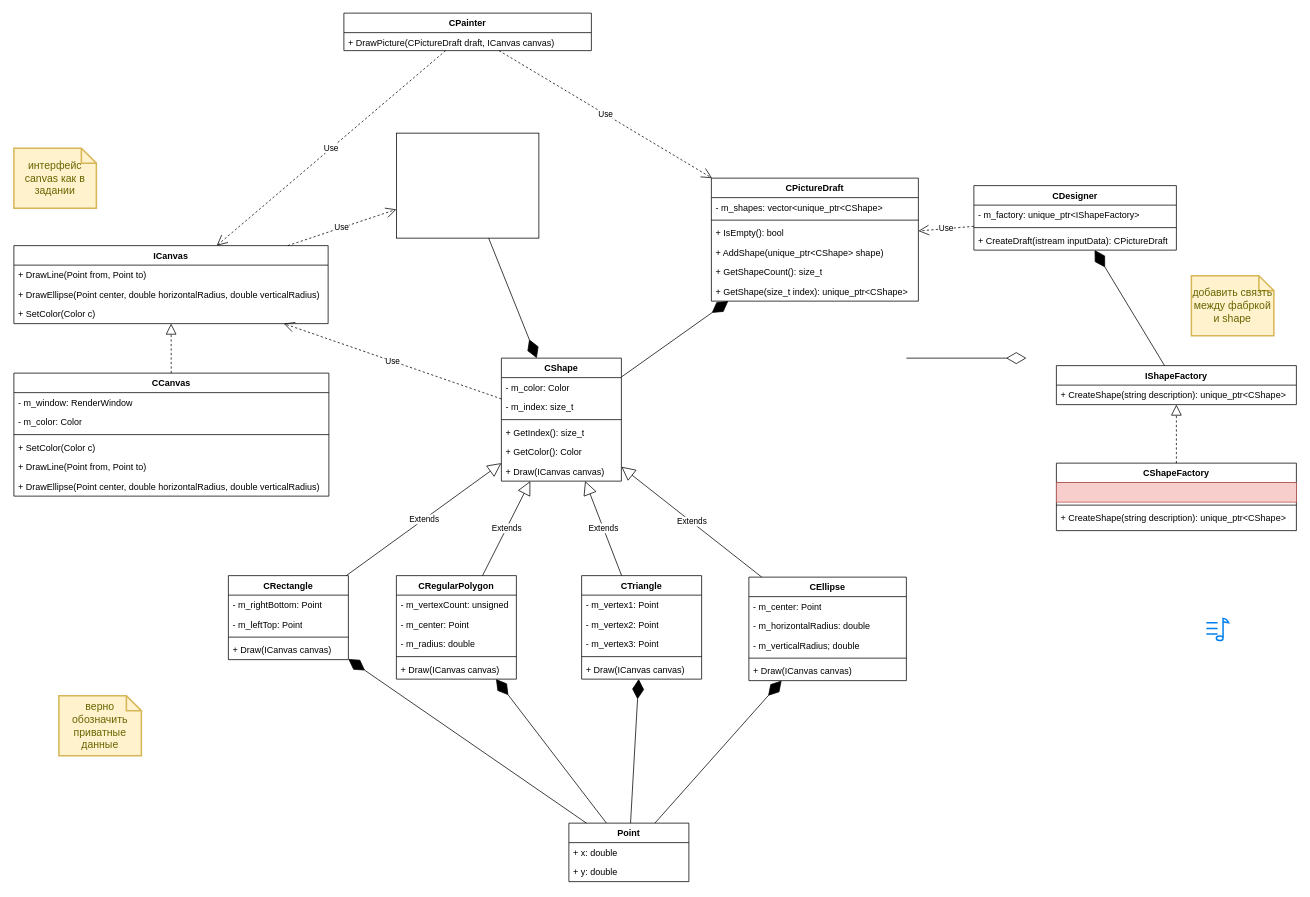
Image size: 1310x897. Some labels were removed from this diagram. Each missing label, with the centre of its shape:
+ m_countOfCreatedShapes: size_t: pixel 1176 492
<<Enumeration>> Color + Green + Red + Blue + Yellow + Pink + Black: pixel 467 185
